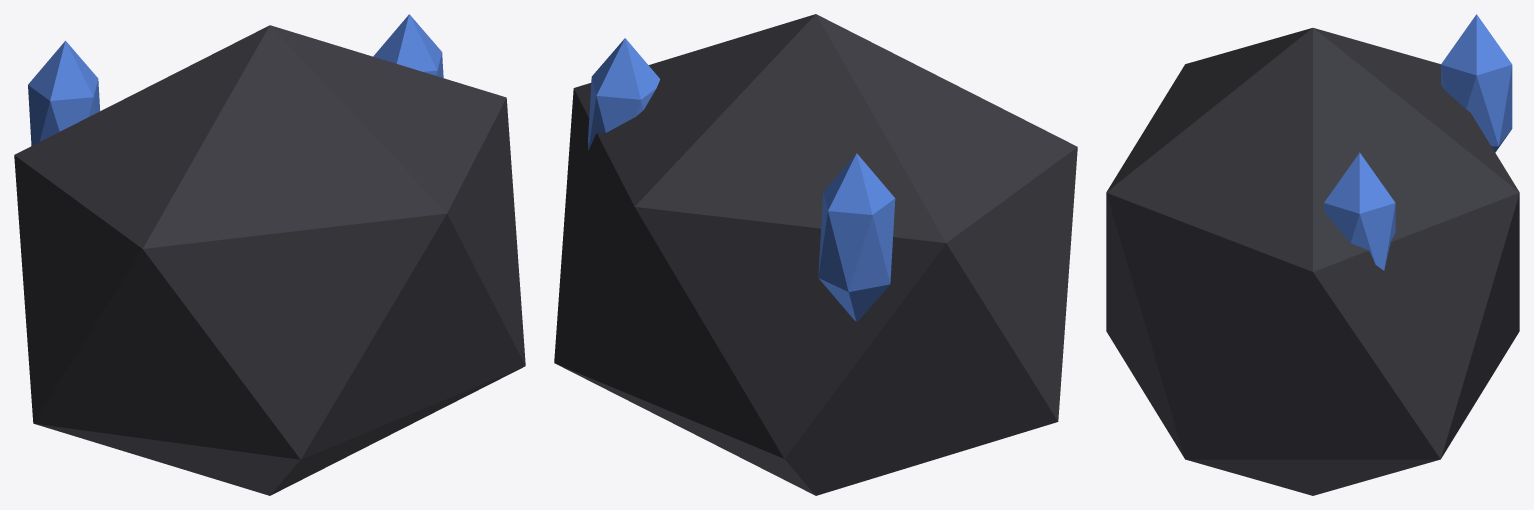
Rendered from minerio_bruto.glb.
The picture shows the model from 3 angles, left to right: view 1: azimuth 30°, elevation 25°; view 2: azimuth 150°, elevation 25°; view 3: azimuth 270°, elevation 25°; orthographic projection. The views are drawn at different scales.
Visible parts, largest first — view 1: Icosphere; view 2: Icosphere; view 3: Icosphere.
Part boxes in pixels (x1,y1,x2,y2): Icosphere: [14, 14, 525, 495]; Icosphere: [554, 14, 1077, 495]; Icosphere: [1106, 14, 1519, 495].
Size of the model in its own units: 0.2326 by 0.221 by 0.1769.
